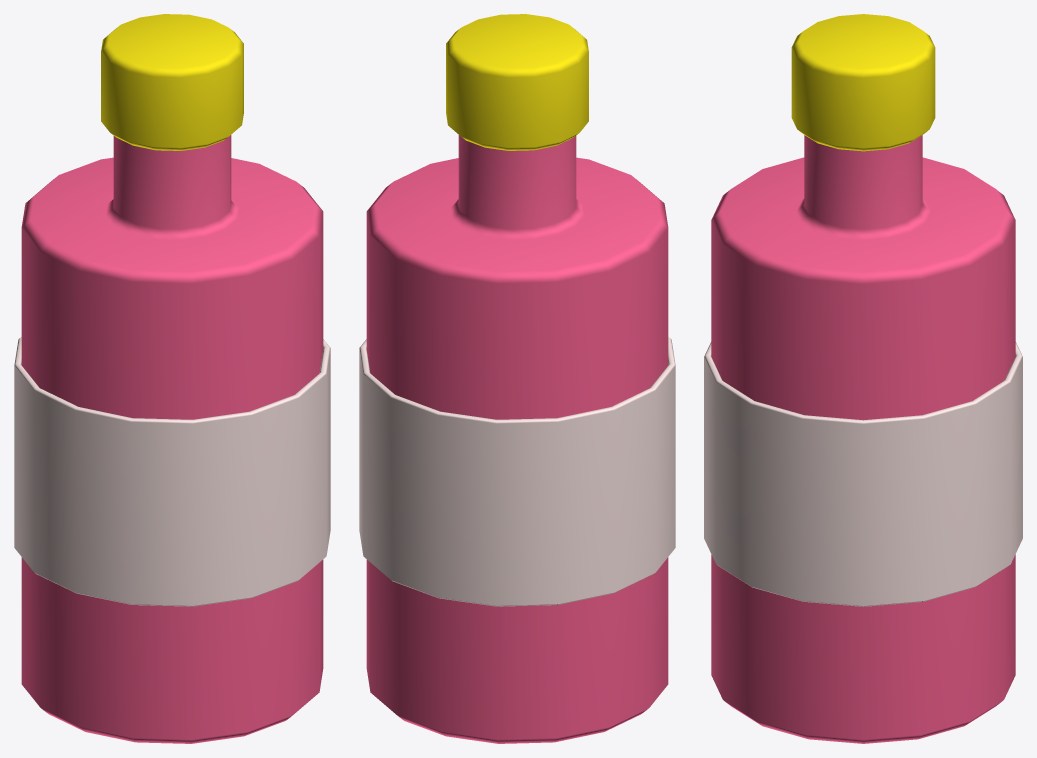
File: Public_15_Bottle_6.glb
The picture shows the model from 3 angles, left to right: view 1: azimuth 30°, elevation 25°; view 2: azimuth 150°, elevation 25°; view 3: azimuth 270°, elevation 25°; orthographic projection.
Parts seen in each view (by area): view 1: Public_15_Bottle_6; view 2: Public_15_Bottle_6; view 3: Public_15_Bottle_6.
Boxes of the visible parts, x1,y1,x2,y2 form: Public_15_Bottle_6: (14, 14, 330, 743); Public_15_Bottle_6: (359, 14, 675, 743); Public_15_Bottle_6: (704, 14, 1022, 743).
Bounding box in the file's own units: 1.34 × 2.98 × 1.34.
Materials: 1 (1 with a texture image).
